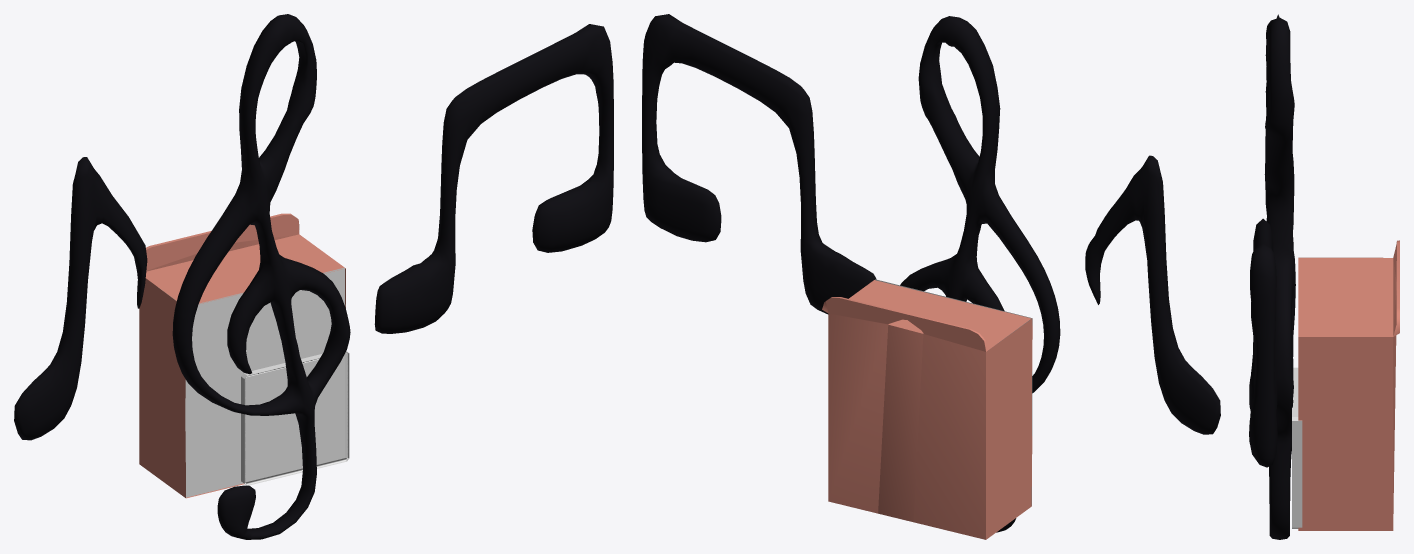
Rendered from MusicalNotes.fbx.
3 renders of one model, left to right at view 1: azimuth 30°, elevation 25°; view 2: azimuth 150°, elevation 25°; view 3: azimuth 270°, elevation 25°, orthographic. The views are drawn at different scales.
Visible parts, largest first — view 1: MusicalNotes, ChamferBox001_05 - Default_0.017_6, ChamferBox001_05 - Default_0.007_4; view 2: ChamferBox001_05 - Default_0.007_4, MusicalNotes; view 3: ChamferBox001_05 - Default_0.007_4, MusicalNotes, ChamferBox001_05 - Default_0.017_6.
Part boxes in pixels (left/top/right/bottom): MusicalNotes: left=14, top=14, right=613, bottom=539; ChamferBox001_05 - Default_0.017_6: left=185, top=267, right=349, bottom=497; ChamferBox001_05 - Default_0.007_4: left=139, top=213, right=345, bottom=498; ChamferBox001_05 - Default_0.007_4: left=822, top=280, right=1032, bottom=539; MusicalNotes: left=642, top=14, right=1220, bottom=532; ChamferBox001_05 - Default_0.007_4: left=1298, top=240, right=1399, bottom=530; MusicalNotes: left=1249, top=14, right=1295, bottom=539; ChamferBox001_05 - Default_0.017_6: left=1292, top=367, right=1302, bottom=528.
Size of the model in its own units: 1.62 by 1.35 by 0.3527.
